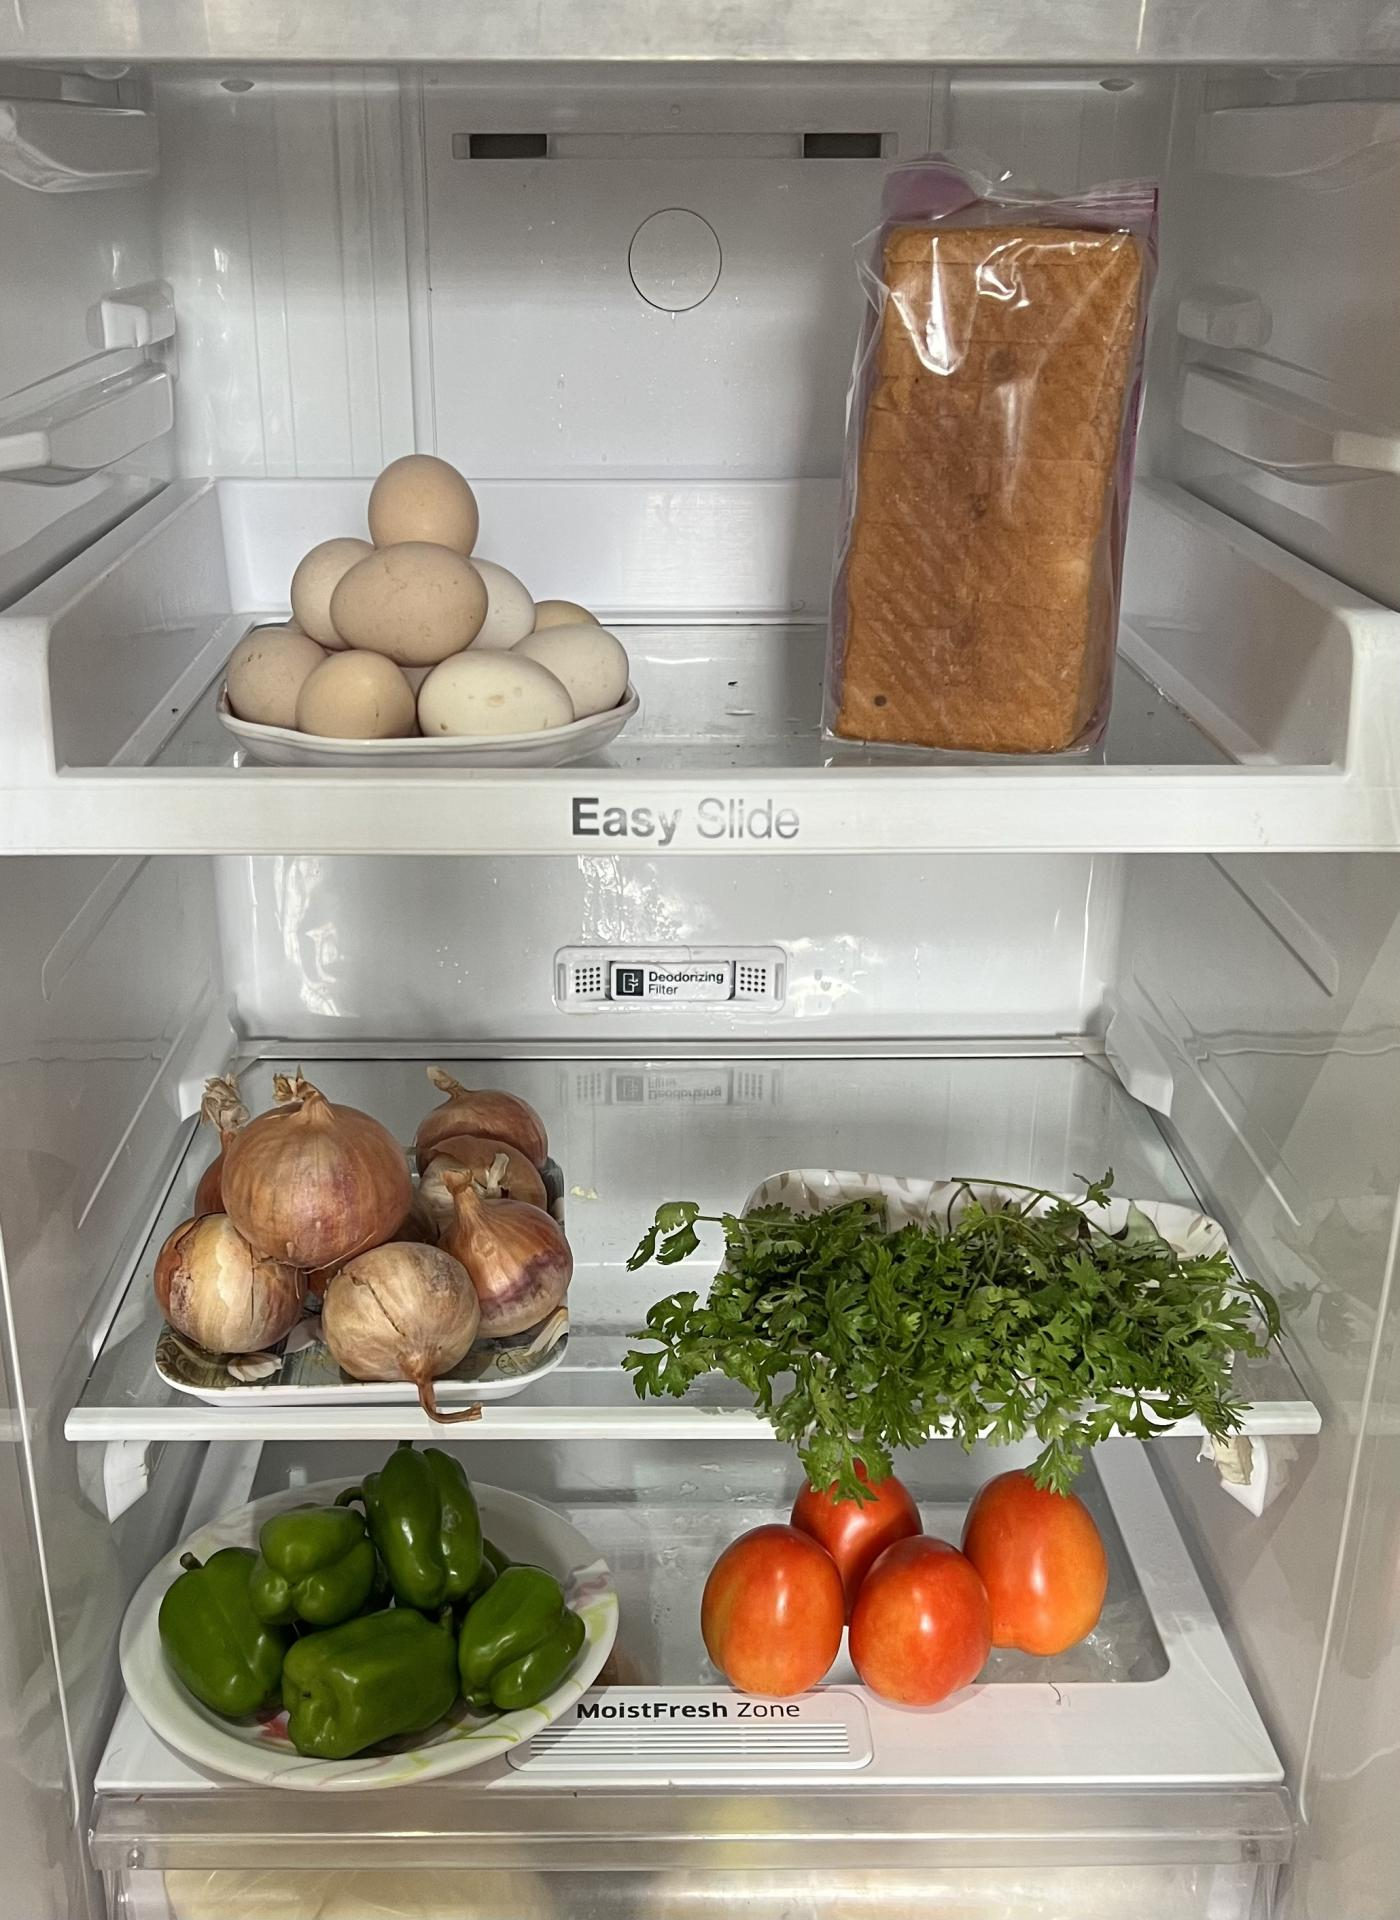bread: (830, 195, 1150, 742)
capsicum: (158, 1453, 593, 1762)
coriander: (649, 1190, 1246, 1419)
egg: (227, 449, 631, 747)
onion: (152, 1070, 576, 1385)
tomato: (701, 1461, 1118, 1705)
